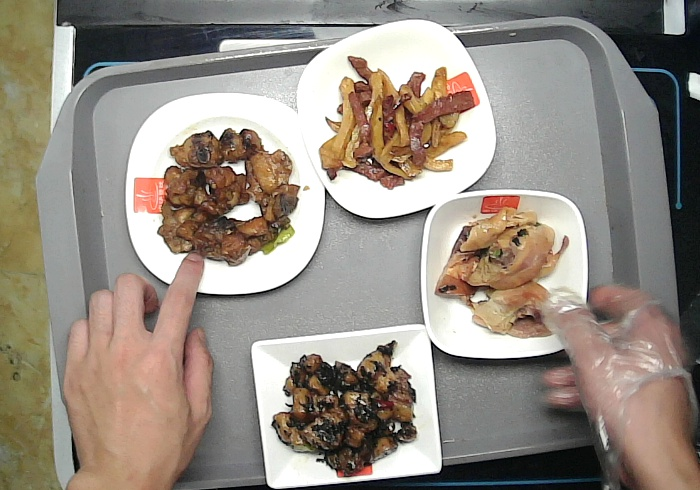SHKJ-Bai_Se_Cai_Die: (294, 18, 499, 220)
SHKJ-Bai_Se_Si_Fang_Cai_Die: (123, 93, 328, 299)
SHKJ-Bai_Se_Xiao_Fang_Die: (418, 188, 591, 361)
SHKJ-Si_Fang_Min: (249, 323, 445, 490)
